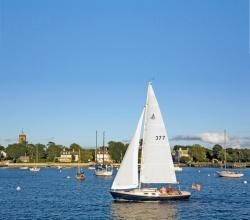fanchuan: (106, 78, 199, 202)
otherboat: (213, 165, 246, 178)
